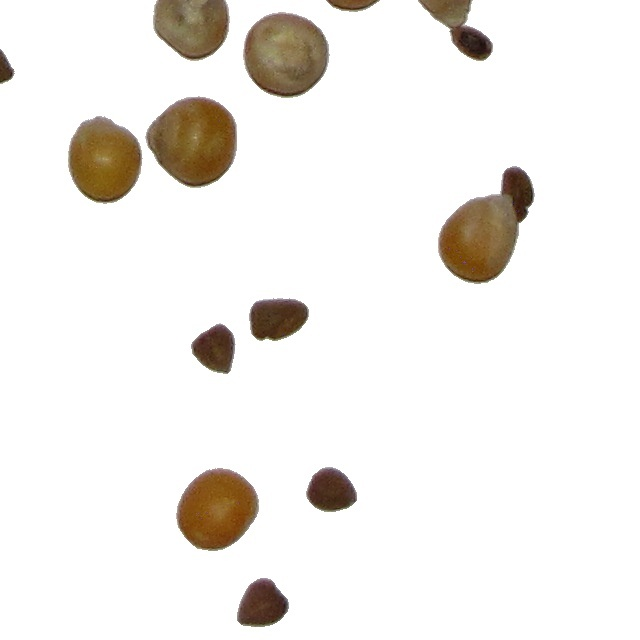buckwheat: (248, 297, 310, 342), (236, 577, 290, 628), (190, 322, 237, 375), (305, 466, 358, 513), (499, 165, 536, 225)
mais: (144, 95, 238, 189), (242, 11, 331, 99), (437, 192, 521, 285), (175, 467, 260, 552), (67, 115, 144, 205)
